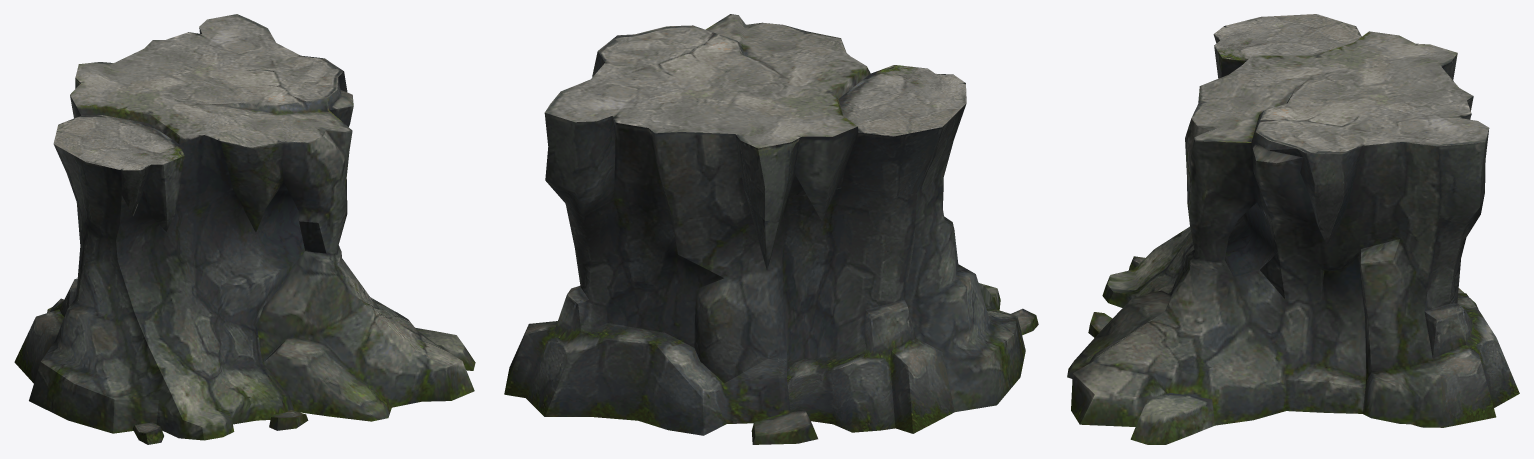
Rendered from 4007_shitou_1.FBX.
3 views of the same model, side by side, from view 1: azimuth 30°, elevation 25°; view 2: azimuth 150°, elevation 25°; view 3: azimuth 270°, elevation 25° (orthographic). The views are drawn at different scales.
Parts seen in each view (by area): view 1: 4007_shitou_1; view 2: 4007_shitou_1; view 3: 4007_shitou_1.
Boxes of the visible parts, x1=… form: 4007_shitou_1: x1=14, y1=14, x2=475, y2=444; 4007_shitou_1: x1=504, y1=14, x2=1038, y2=444; 4007_shitou_1: x1=1067, y1=14, x2=1519, y2=444.
Bounding box in the file's own units: 848 × 539 × 837.
